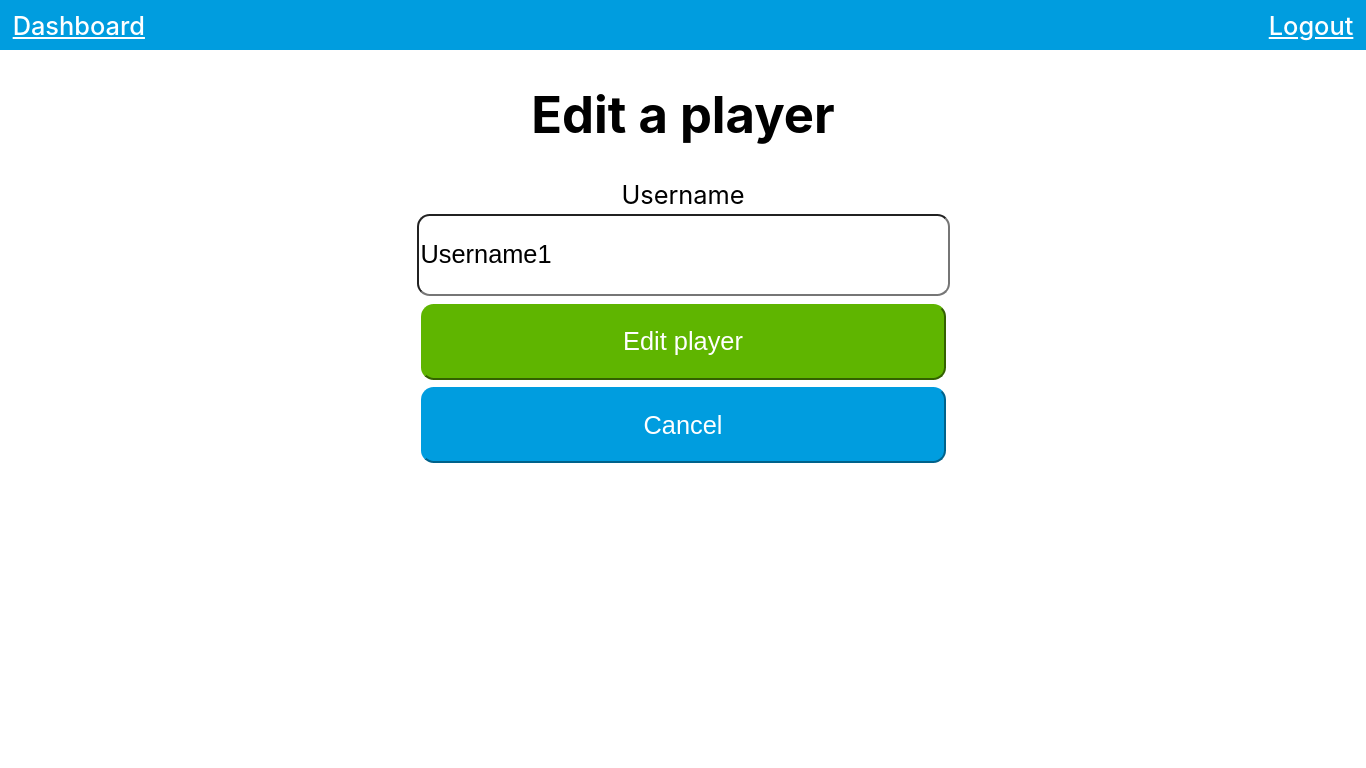
can edit a user
Expected: the heading "Edit a player" is shown, left=333, top=84, right=1033, bottom=145
Replace the text in the field with placeholder "Username" with "test": {"x": 683, "y": 255} left=416, top=214, right=950, bottom=296
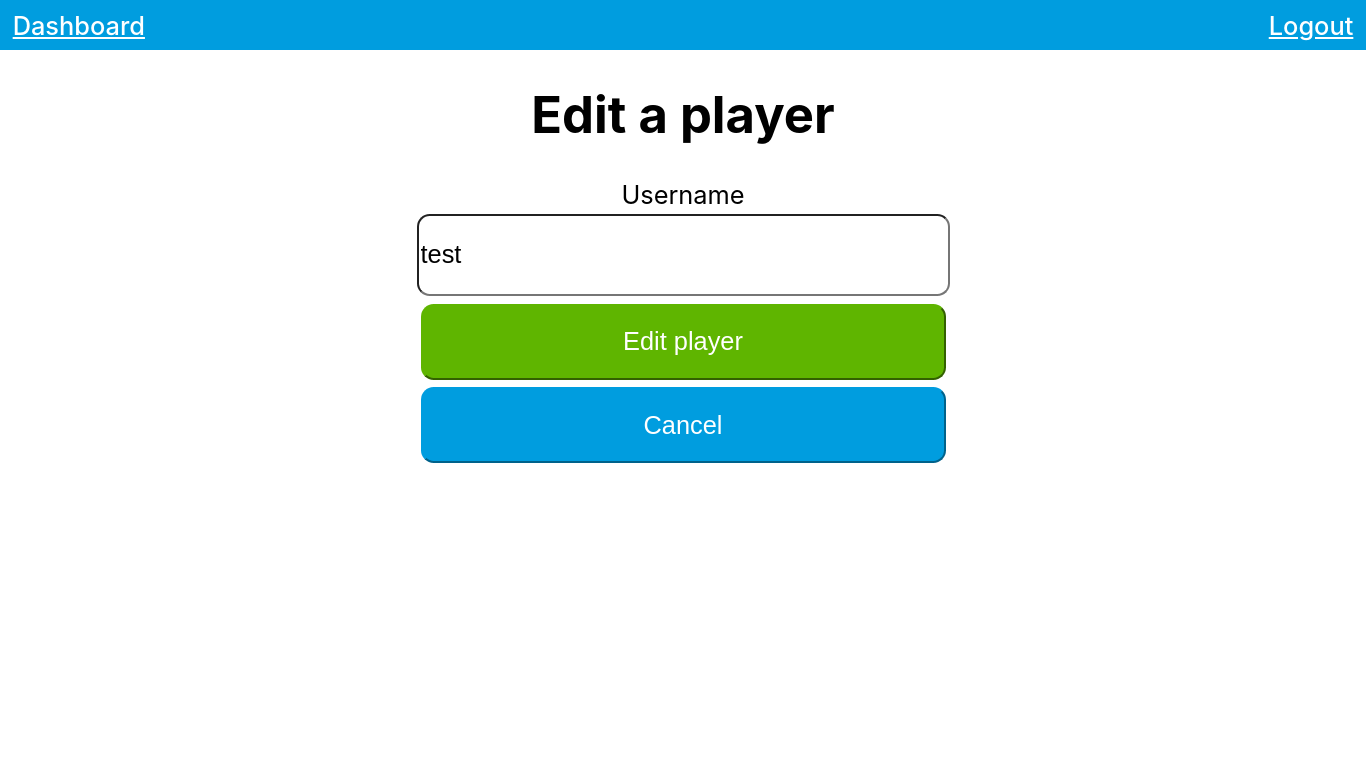
Click the button "Edit player": {"x": 683, "y": 342} left=420, top=304, right=946, bottom=380
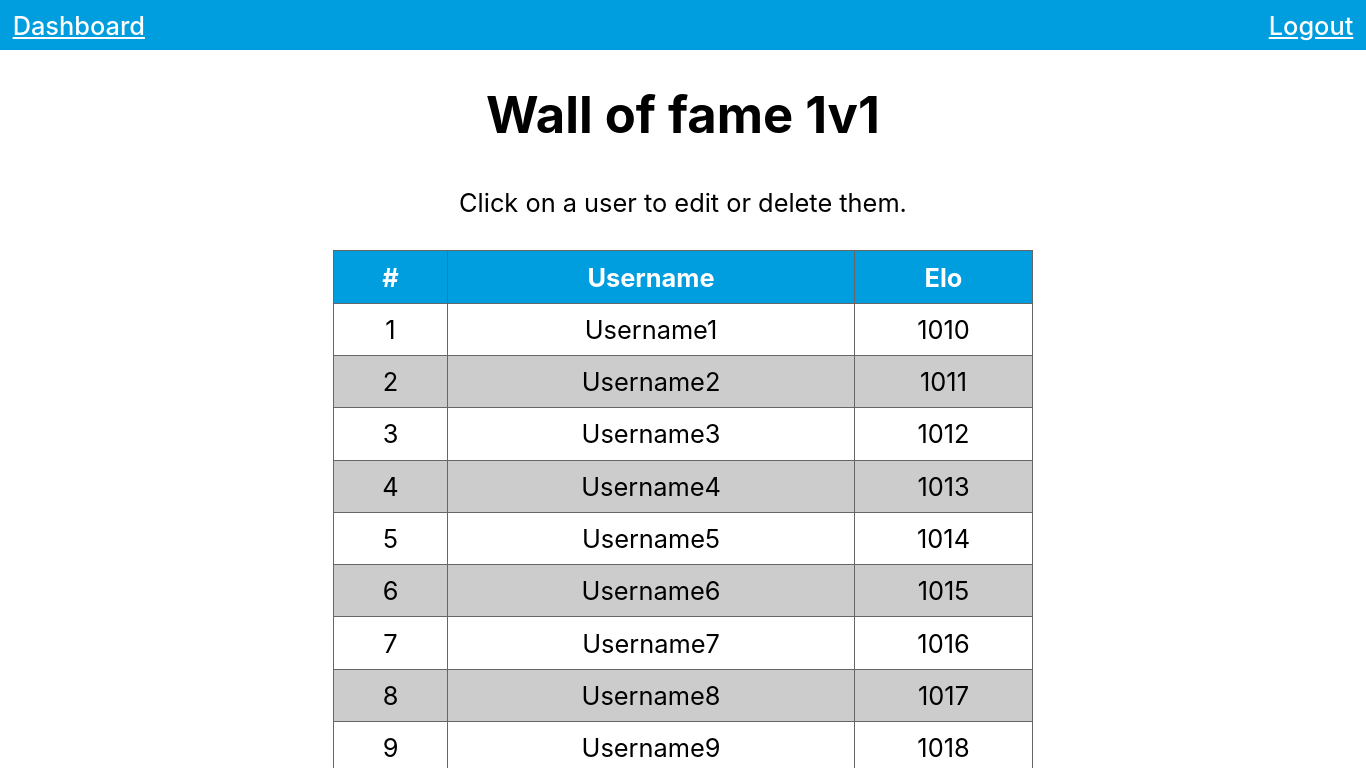
Expected: the heading "Wall of fame 1v1" is shown, left=333, top=84, right=1033, bottom=145
